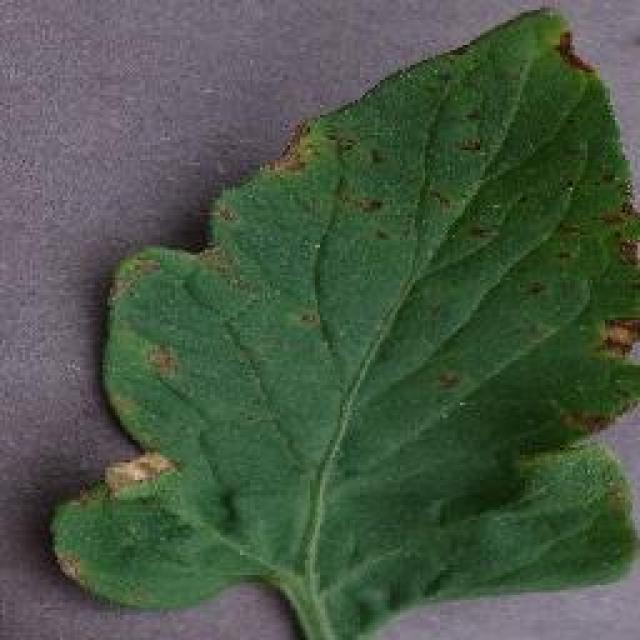bacterial spot: (46, 5, 639, 640)
